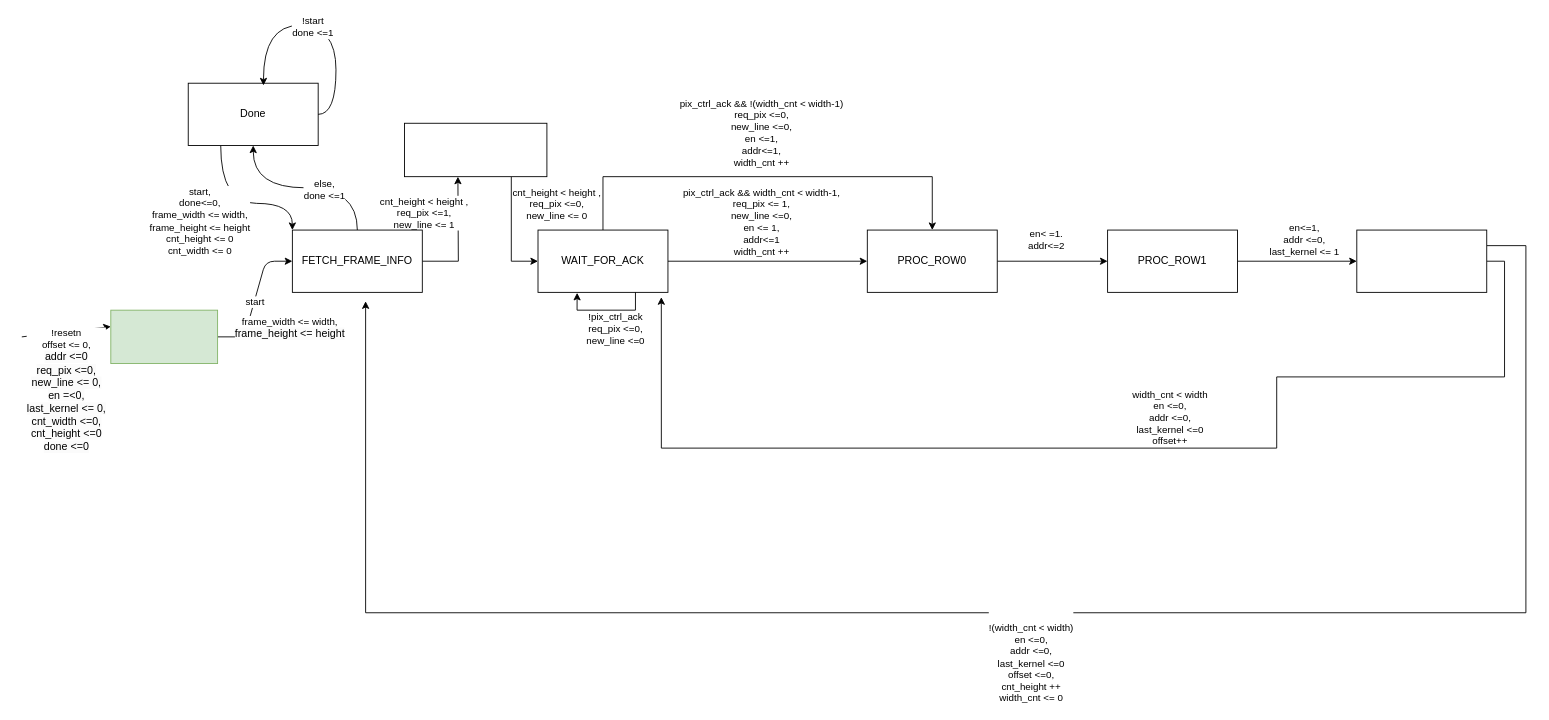
Image size: 1549x720. Some labels were removed from this diagram. The centre of each missing label's shape, as x and y in pixels:
"PROC_ROW2" goes at point 1421,260.
"RESET_STATE" goes at point 164,336.
"WAIT_1_CYCLE_NEW_LINE" goes at point 475,149.
